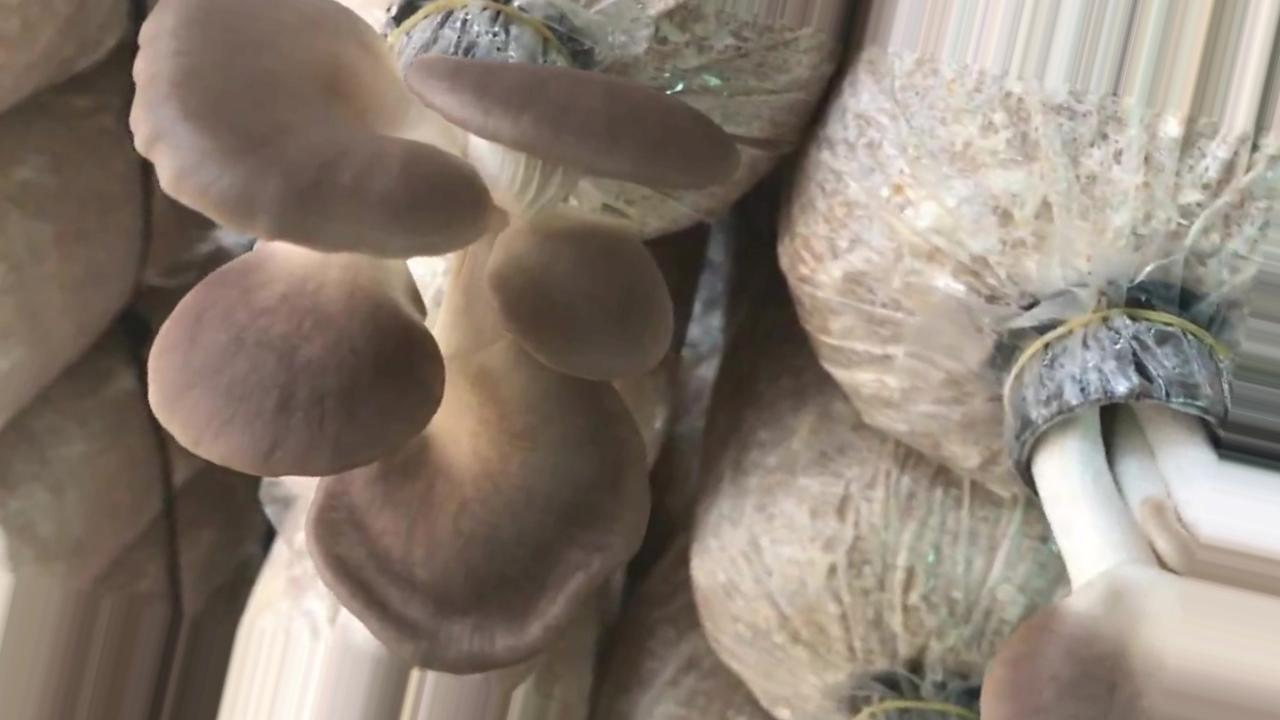nam: (128, 1, 736, 673), (982, 307, 1280, 718)
